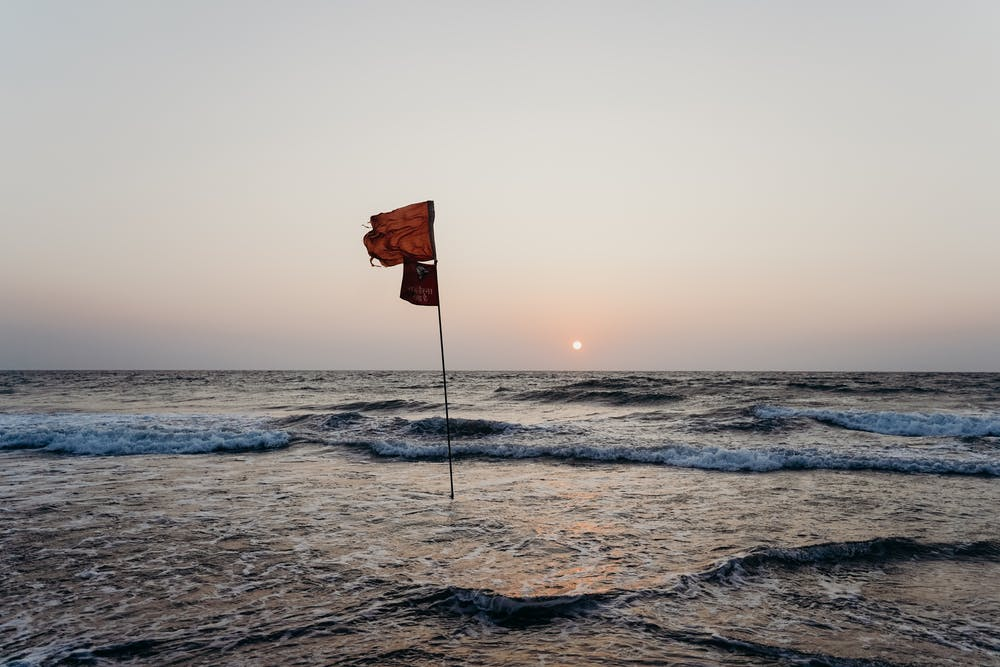Flag: (363, 204, 438, 268), (400, 260, 443, 308)
